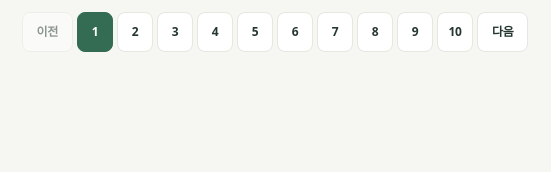
it: shifts the range on previous, next and direct navigation
Expected: the button "이전" is disabled, [22, 12, 73, 52]
What coordinates should you click on to do the following:
click the button "10"
I would click on:
 (455, 32)
Its box is [437, 12, 473, 52].
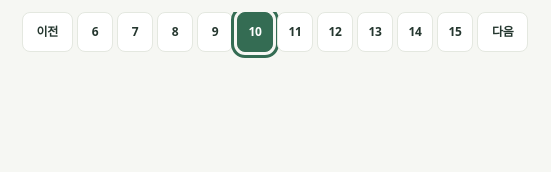
What coordinates should you click on to do the following:
click the button "다음"
I would click on:
 (503, 32)
Its box is [477, 12, 528, 52].
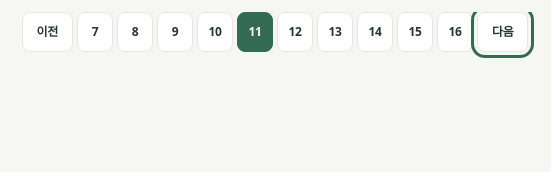
What coordinates should you click on to do the following:
click the button "이전"
I would click on:
 (47, 32)
Its box is [22, 12, 73, 52].
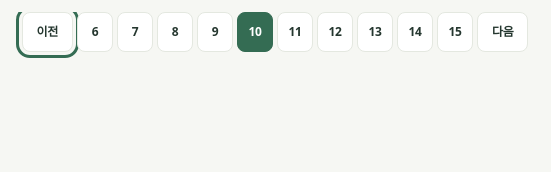
What coordinates should you click on to do the following:
click the button "15"
I would click on:
 (455, 32)
Its box is [437, 12, 473, 52].
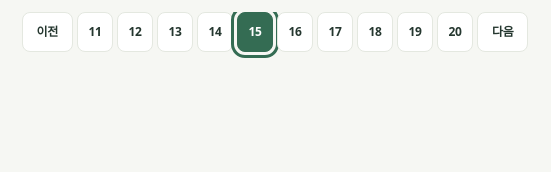
What coordinates should you click on to do the following:
click the button "20"
I would click on:
 (455, 32)
Its box is [437, 12, 473, 52].
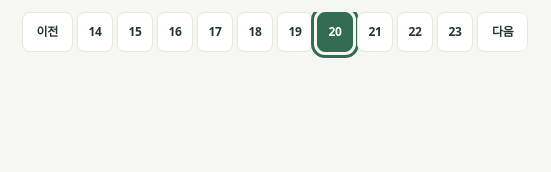
What coordinates should you click on to do the following:
click the button "23"
I would click on:
 (455, 32)
Its box is [437, 12, 473, 52].
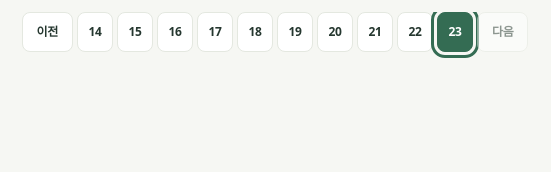
Expected: the button "다음" is disabled, [477, 12, 528, 52]
